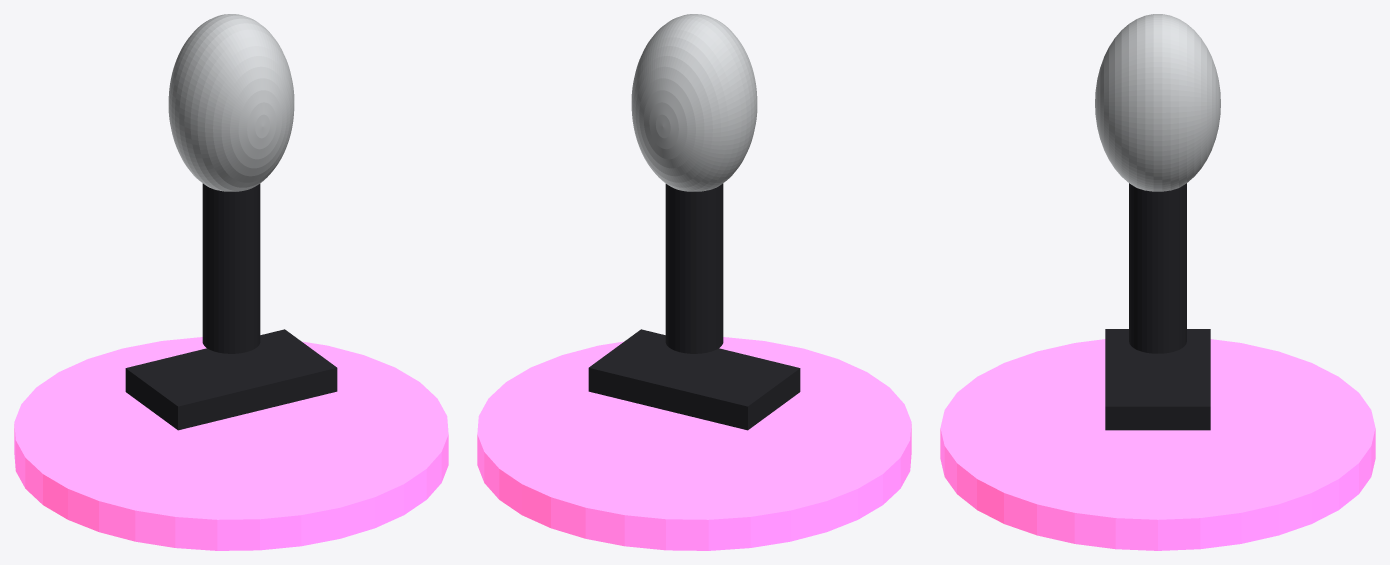
Rendered from music_microphone.glb.
3 views of the same model, side by side, from view 1: azimuth 30°, elevation 25°; view 2: azimuth 150°, elevation 25°; view 3: azimuth 270°, elevation 25° (orthographic).
Parts seen in each view (by area): view 1: 07_02_Popular_Music_Microphone_ROOT_base, 07_02_Popular_Music_Microphone_part_01, 07_02_Popular_Music_Microphone_part_03, 07_02_Popular_Music_Microphone_part_02; view 2: 07_02_Popular_Music_Microphone_ROOT_base, 07_02_Popular_Music_Microphone_part_01, 07_02_Popular_Music_Microphone_part_03, 07_02_Popular_Music_Microphone_part_02; view 3: 07_02_Popular_Music_Microphone_ROOT_base, 07_02_Popular_Music_Microphone_part_01, 07_02_Popular_Music_Microphone_part_03, 07_02_Popular_Music_Microphone_part_02.
Part boxes in pixels (<box>): 07_02_Popular_Music_Microphone_ROOT_base: <box>14,337,448,550</box>; 07_02_Popular_Music_Microphone_part_01: <box>168,14,294,191</box>; 07_02_Popular_Music_Microphone_part_03: <box>125,329,337,430</box>; 07_02_Popular_Music_Microphone_part_02: <box>202,183,260,353</box>; 07_02_Popular_Music_Microphone_ROOT_base: <box>477,337,911,550</box>; 07_02_Popular_Music_Microphone_part_01: <box>631,14,757,191</box>; 07_02_Popular_Music_Microphone_part_03: <box>588,329,800,430</box>; 07_02_Popular_Music_Microphone_part_02: <box>665,183,723,353</box>; 07_02_Popular_Music_Microphone_ROOT_base: <box>940,339,1375,550</box>; 07_02_Popular_Music_Microphone_part_01: <box>1095,14,1220,191</box>; 07_02_Popular_Music_Microphone_part_03: <box>1105,329,1210,430</box>; 07_02_Popular_Music_Microphone_part_02: <box>1129,183,1186,353</box>.
Size of the model in its own units: 0.76 by 0.85 by 0.76.
